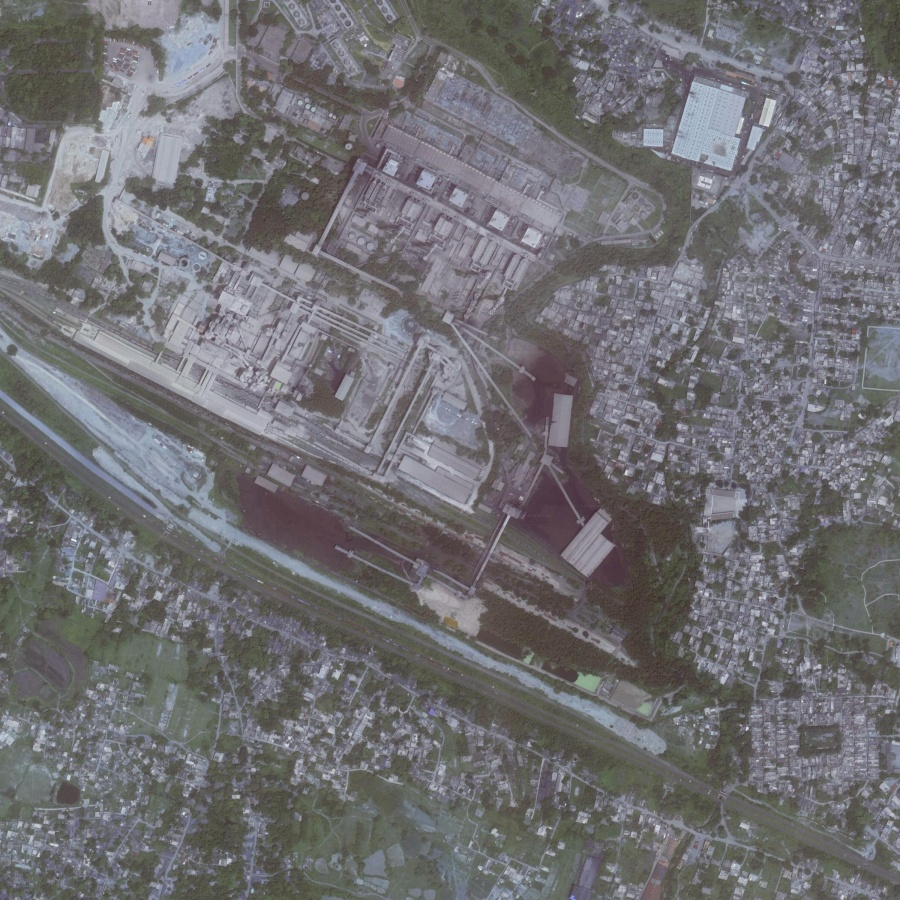PowerPlant: (158, 137, 664, 596)
